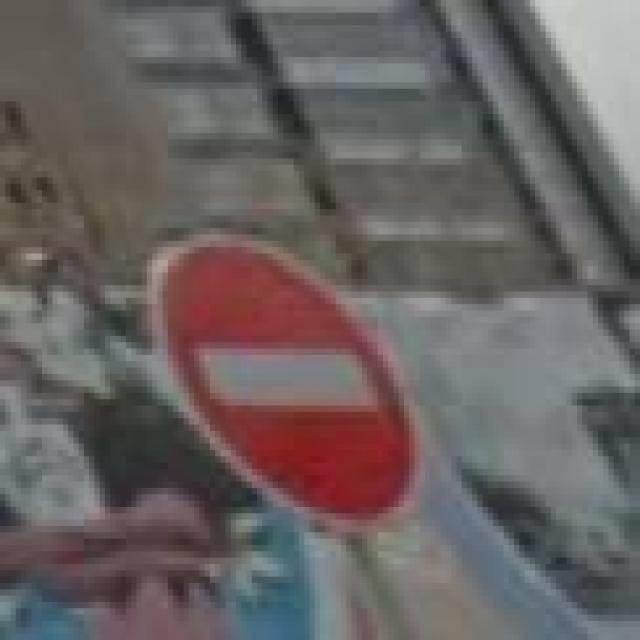Zakaz wjazdu: (152, 235, 430, 532)
